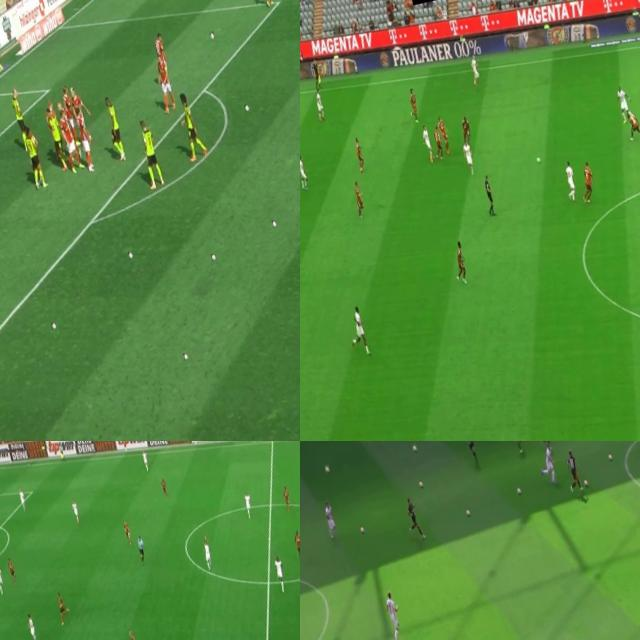ball: (533, 152, 544, 166), (209, 248, 217, 262), (270, 218, 278, 231), (358, 525, 366, 536), (183, 350, 191, 360), (210, 32, 218, 42), (582, 478, 590, 488), (515, 484, 521, 496), (244, 102, 250, 113), (607, 450, 613, 461), (128, 250, 133, 260), (324, 464, 329, 474), (418, 479, 424, 486), (51, 320, 56, 328), (412, 444, 418, 450), (466, 508, 470, 516)
player: (178, 91, 207, 162), (103, 92, 130, 164), (138, 117, 166, 186), (22, 127, 48, 194), (46, 108, 72, 170), (74, 108, 98, 170), (345, 303, 372, 357), (59, 110, 83, 168), (150, 28, 174, 83), (574, 159, 600, 207), (69, 89, 93, 139), (8, 90, 29, 147), (448, 238, 472, 286), (154, 56, 176, 108), (384, 588, 406, 640), (60, 86, 80, 142), (559, 158, 581, 204), (612, 81, 634, 126), (564, 448, 583, 494), (536, 442, 558, 480), (404, 498, 424, 538), (436, 112, 454, 155), (403, 85, 422, 124), (351, 178, 368, 221), (466, 51, 484, 90), (418, 123, 436, 162), (431, 124, 447, 165), (461, 140, 478, 178), (458, 114, 476, 149), (624, 106, 640, 144), (54, 591, 72, 624), (352, 135, 368, 172), (300, 151, 314, 193), (312, 88, 328, 122), (271, 555, 286, 590), (322, 500, 337, 535), (200, 538, 215, 572), (278, 481, 294, 512), (24, 612, 37, 640), (291, 526, 300, 564), (70, 498, 82, 525), (242, 493, 254, 518), (16, 486, 28, 510), (122, 516, 132, 544), (139, 446, 150, 471), (509, 441, 526, 457), (4, 559, 16, 580), (158, 475, 168, 496), (125, 628, 142, 640), (536, 441, 551, 450), (0, 563, 4, 590)
